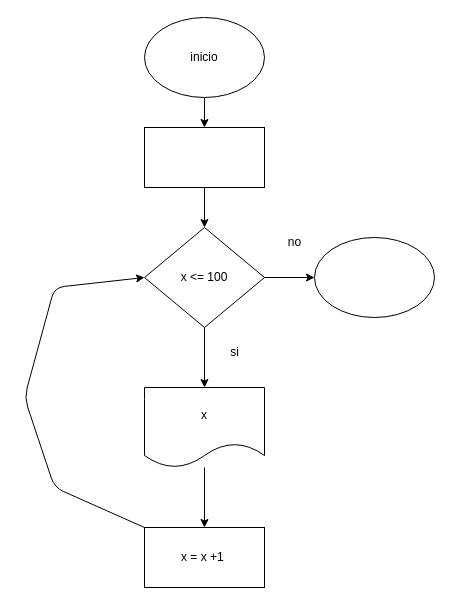
Image size: 452x605. Some labels were removed from this diagram. Each missing label, with the centre of its shape:
fin del programa: pixel 374 277
x = 1: pixel 204 157
